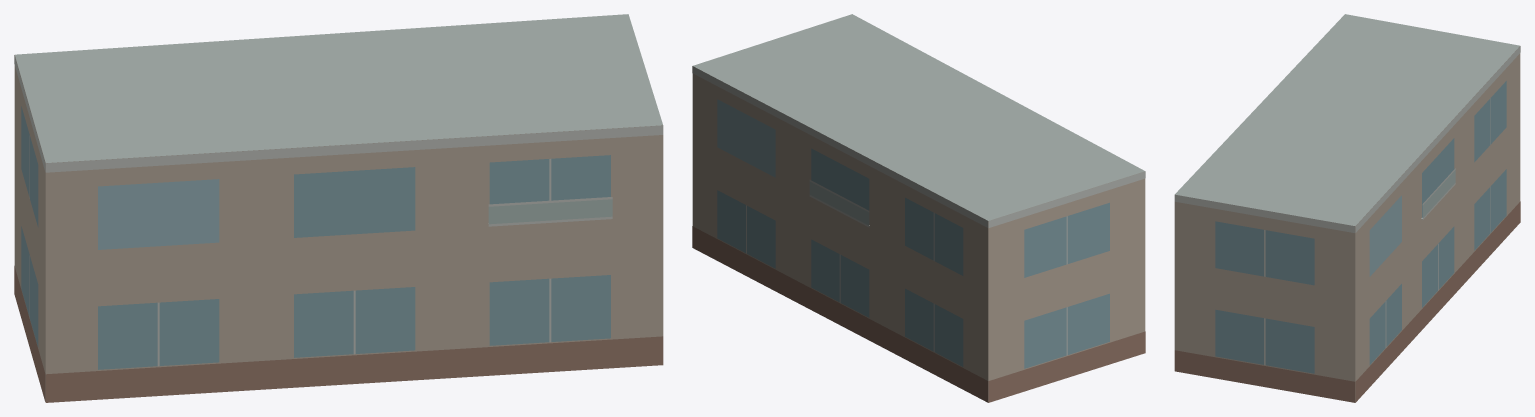
File: survey-upis-32659977.glb
The picture shows the model from 3 angles, left to right: view 1: azimuth 30°, elevation 25°; view 2: azimuth 150°, elevation 25°; view 3: azimuth 270°, elevation 25°; orthographic projection. The views are drawn at different scales.
Visible parts, largest first — view 1: survey-upis-32659977.tmp; view 2: survey-upis-32659977.tmp; view 3: survey-upis-32659977.tmp.
Part boxes in pixels (x1=…): survey-upis-32659977.tmp: x1=14, y1=14, x2=663, y2=402; survey-upis-32659977.tmp: x1=692, y1=14, x2=1145, y2=402; survey-upis-32659977.tmp: x1=1174, y1=14, x2=1520, y2=402.
Size of the model in its own units: 15.72 by 6.1 by 10.83.
